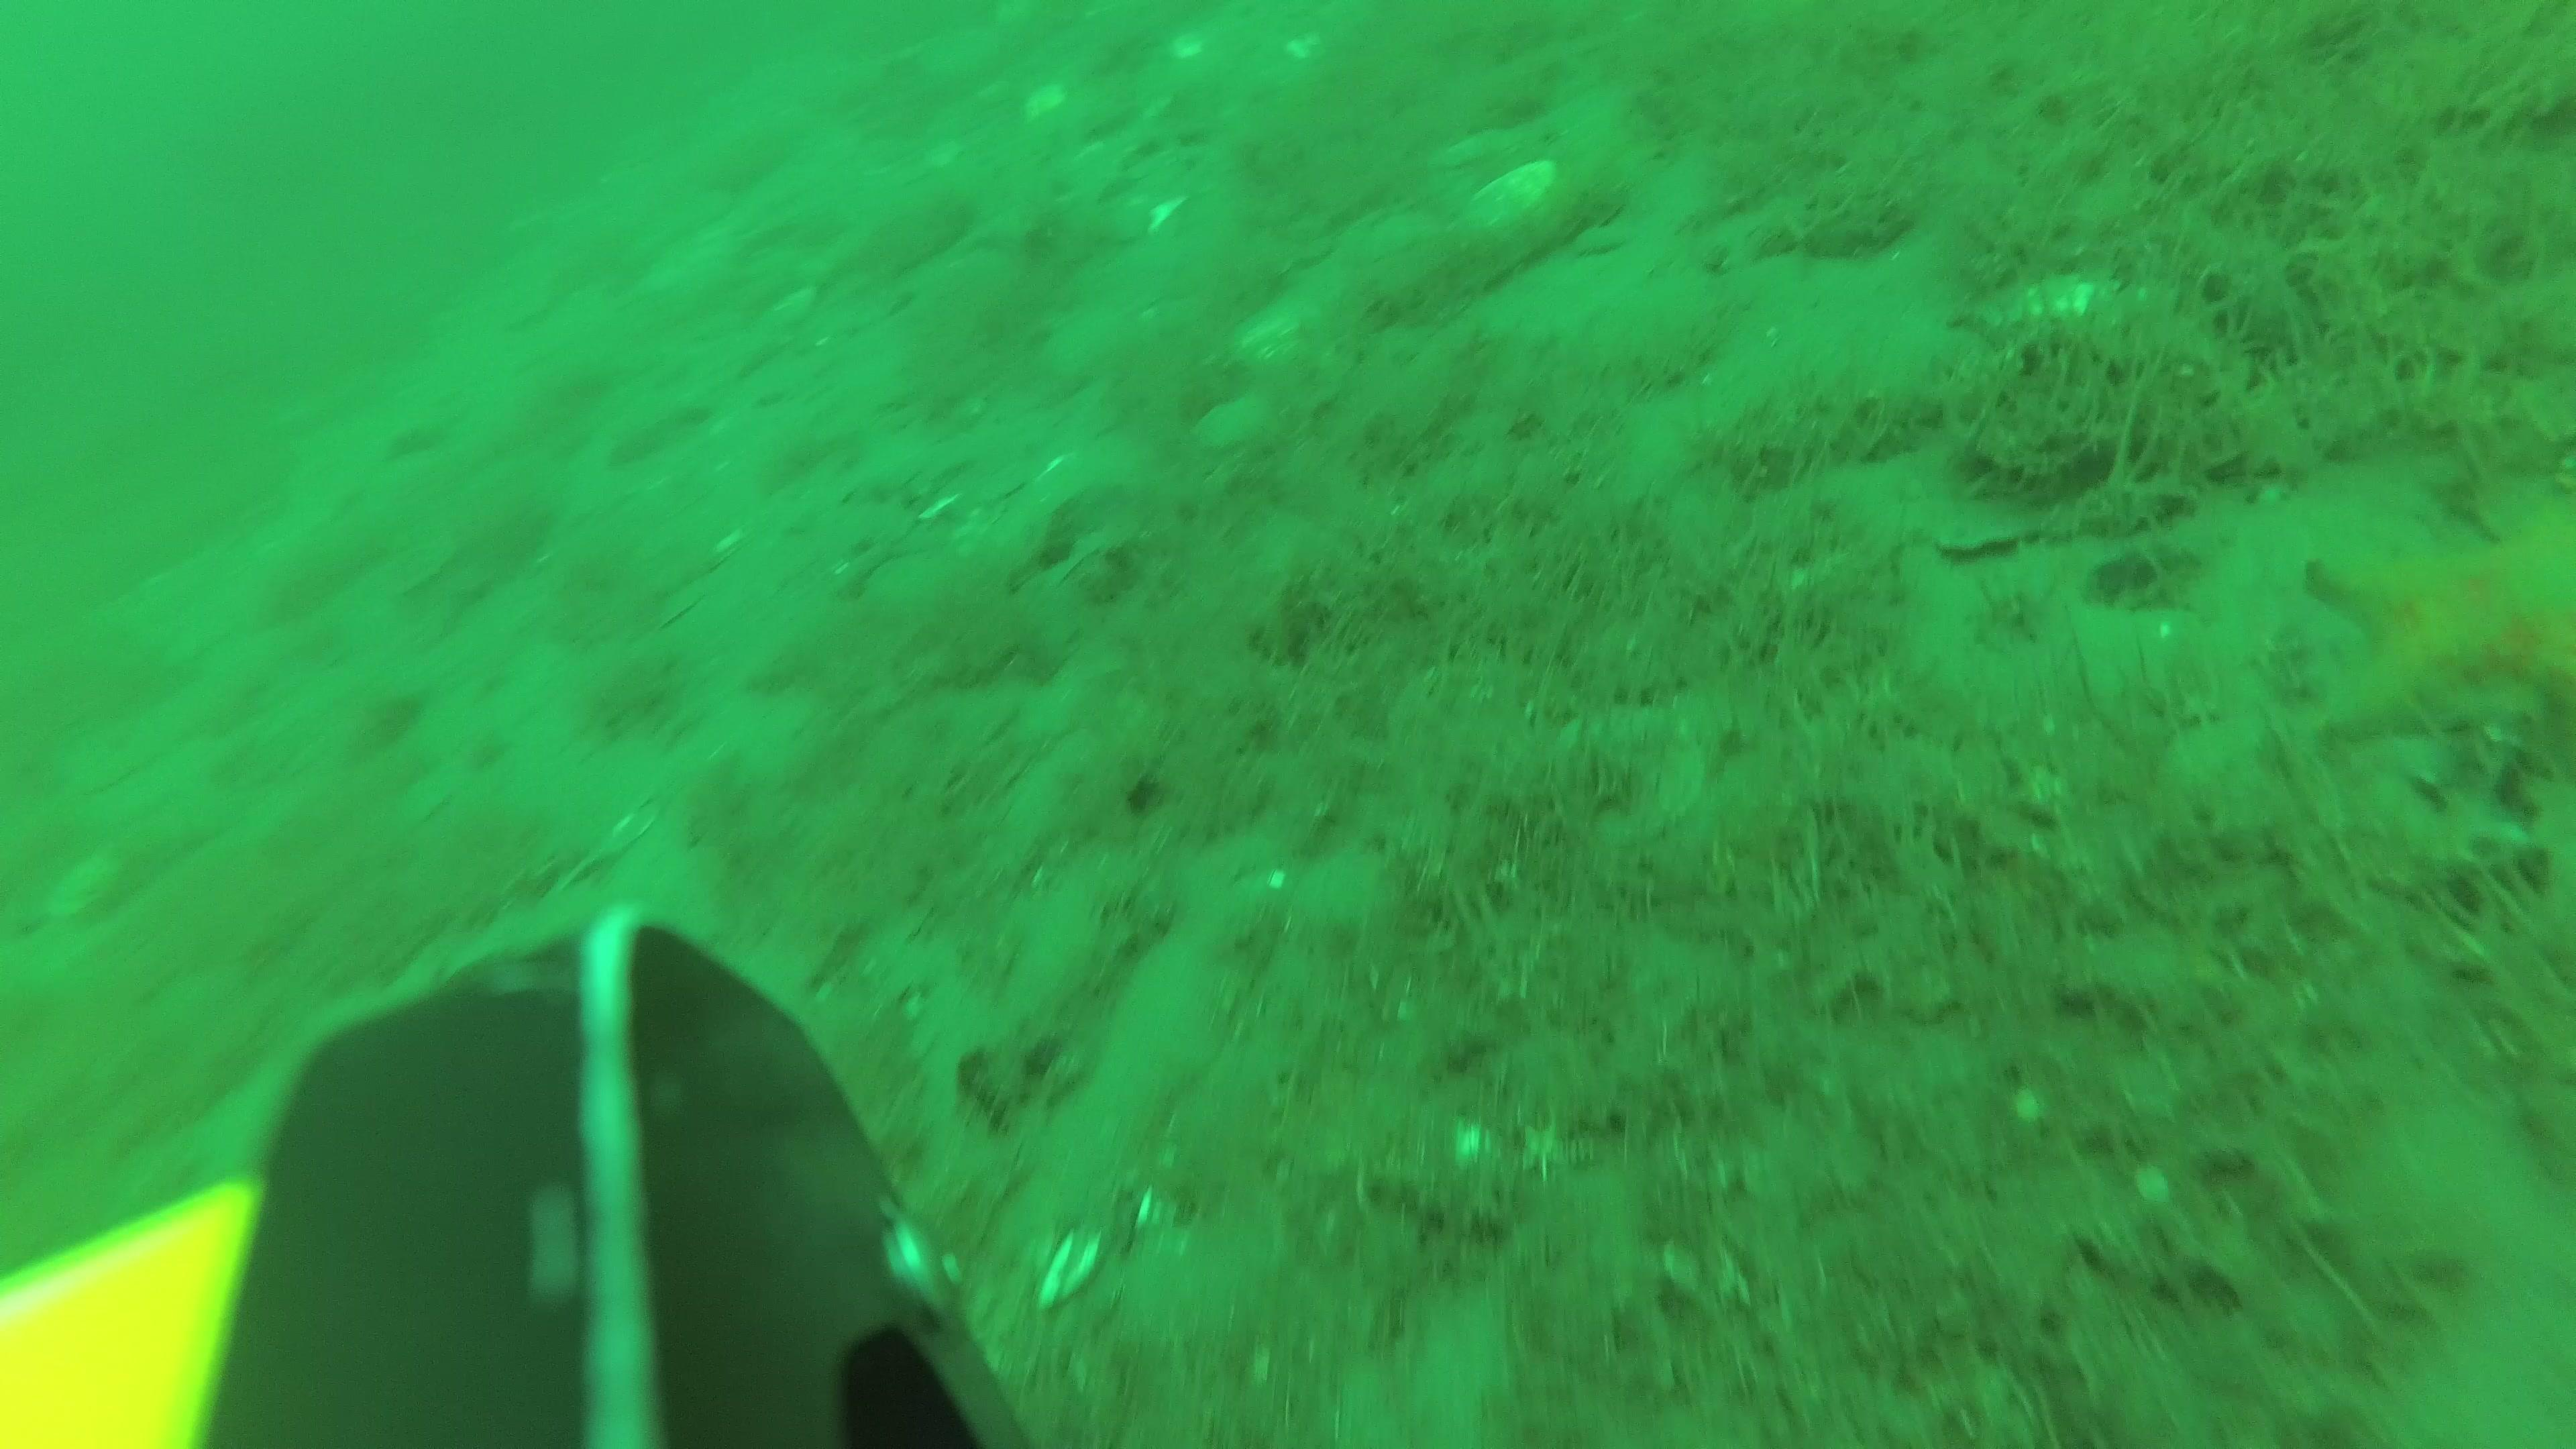scallop: (1468, 159, 1566, 230), (1221, 304, 1318, 373), (1200, 402, 1288, 458), (58, 851, 117, 925), (1024, 83, 1067, 119)
starfish: (2295, 494, 2576, 748)
